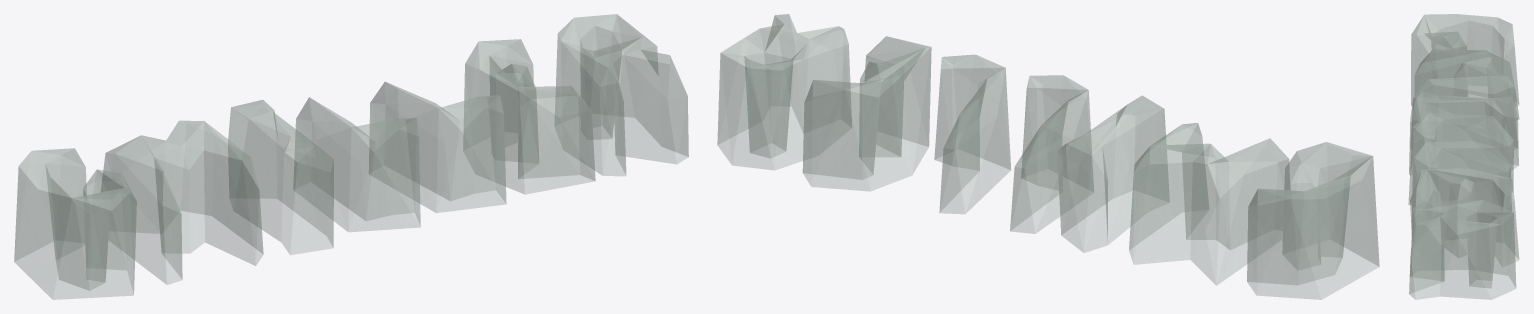
File: GMILLER - Copy.glb
The picture shows the model from 3 angles, left to right: view 1: azimuth 30°, elevation 25°; view 2: azimuth 150°, elevation 25°; view 3: azimuth 270°, elevation 25°; orthographic projection. The views are drawn at different scales.
Parts seen in each view (by area): view 1: Contact.003; view 2: Contact.003; view 3: Contact.003.
Part boxes in pixels (x1,y1,x2,y2): Contact.003: [14, 14, 688, 299]; Contact.003: [717, 14, 1379, 299]; Contact.003: [1408, 14, 1519, 299].
Bounding box in the file's own units: 2.75 × 0.4394 × 0.597.
1 material, 1 textured.
